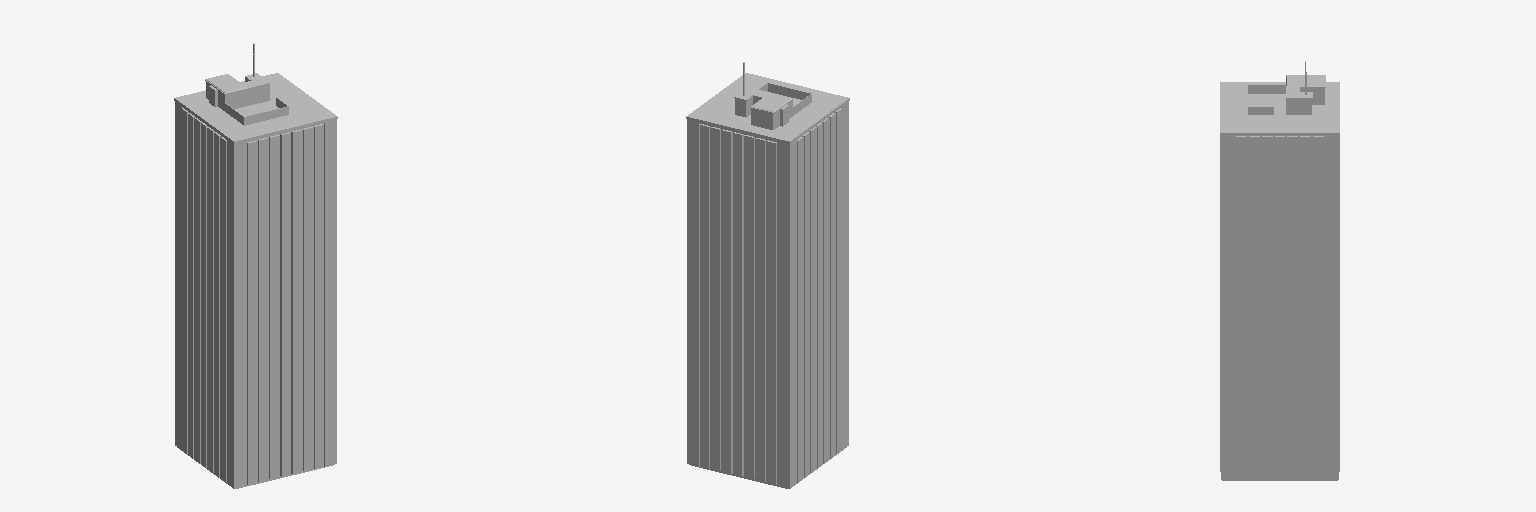
The picture shows the model from 3 angles: view 1: azimuth 30°, elevation 25°; view 2: azimuth 150°, elevation 25°; view 3: azimuth 270°, elevation 25°; orthographic projection.
Visible parts, largest first — view 1: Highrise_15; view 2: Highrise_15; view 3: Highrise_15.
Boxes of the visible parts, x1,y1,x2,y2 form: Highrise_15: [174, 43, 337, 488]; Highrise_15: [686, 62, 849, 488]; Highrise_15: [1220, 61, 1339, 480].
Size of the model in its own units: 161 by 589 by 161.